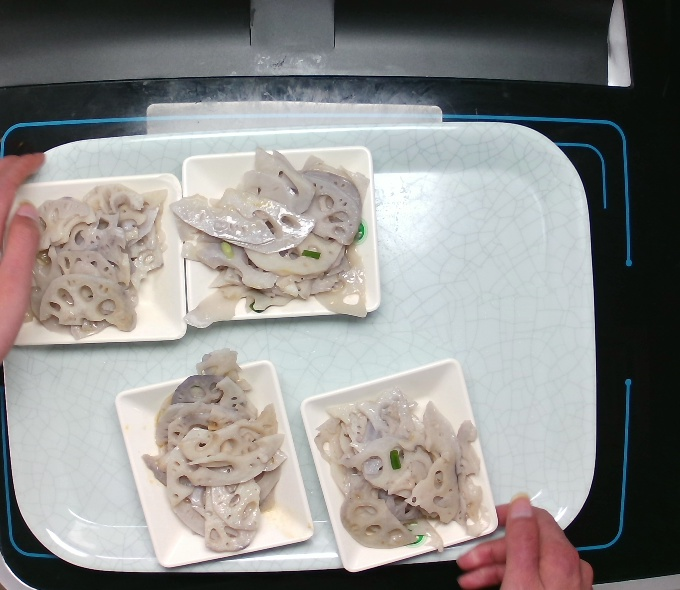wcq-OuPian: (174, 139, 382, 335), (126, 345, 297, 556), (306, 380, 487, 559), (32, 179, 168, 343)
